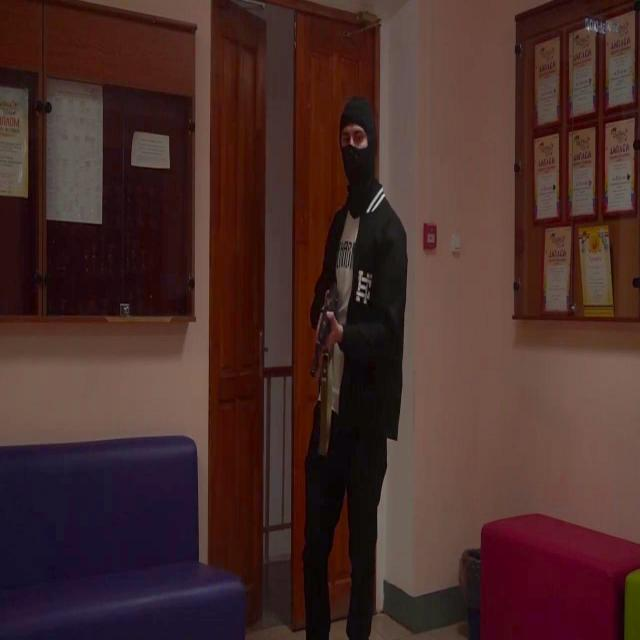gun: (302, 96, 408, 640), (310, 269, 338, 379)
